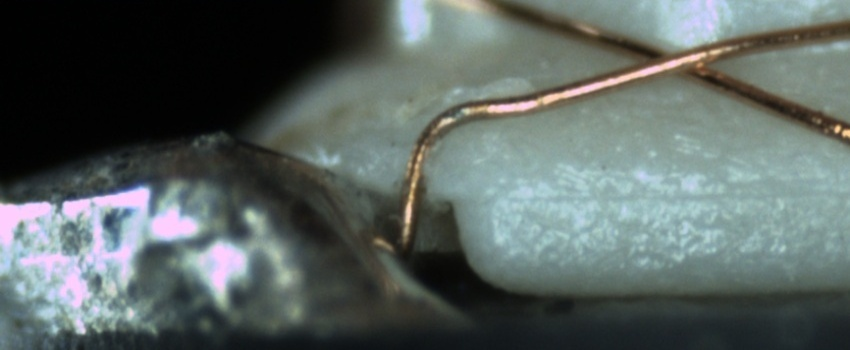CL: (612, 34, 736, 85)
DL: (491, 163, 849, 227)
